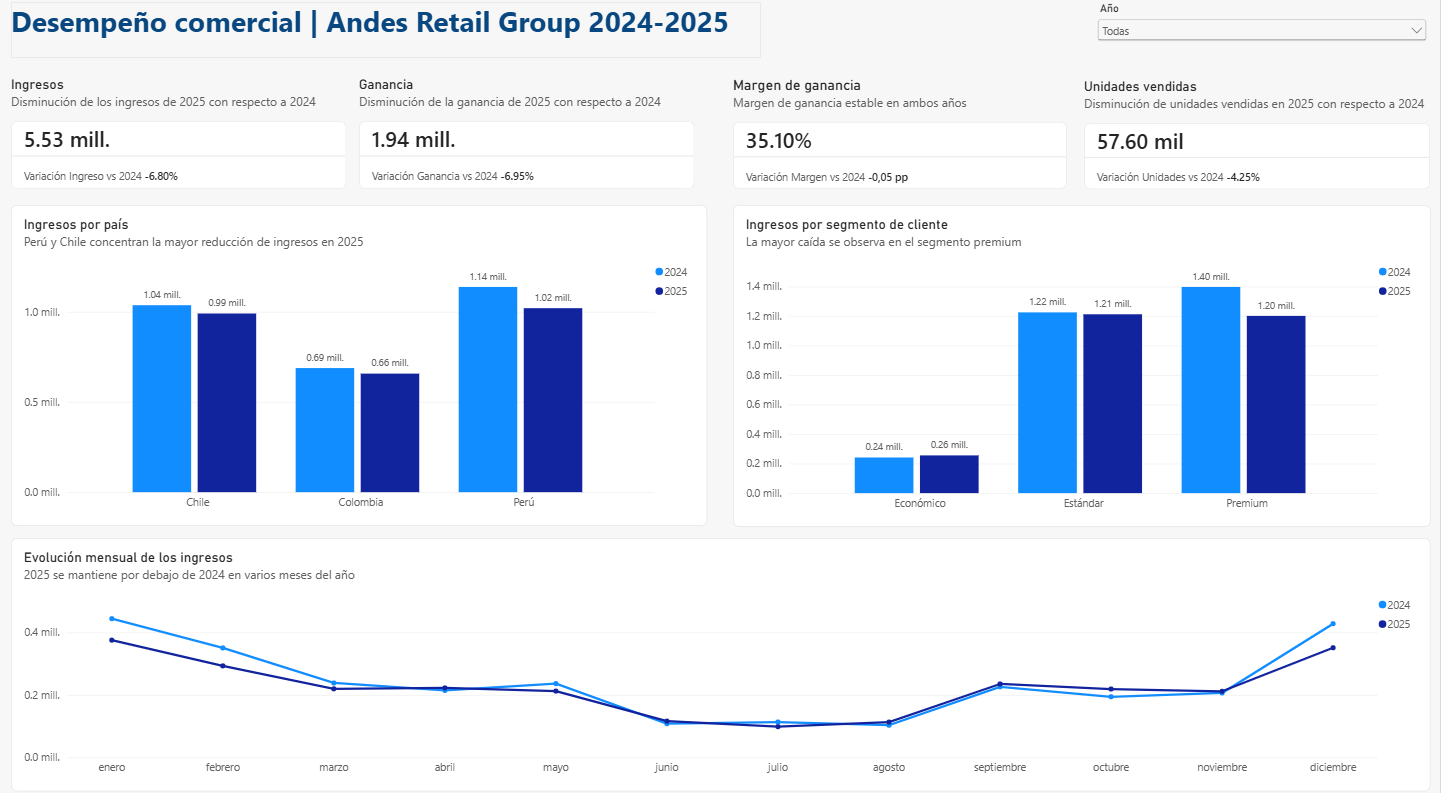

What the dashboard file says about the page in this screenshot:
{"tool":"powerbi","page":{"name":"Overview Ejecutivo","canvas":[1920,1080],"ordinal":0},"visuals":[{"type":"textbox","box":[20,12,997.5,74.5],"z":0},{"type":"cardVisual","title":"Ingresos","fields":{"Data":["Sum(Andes_Retail_Group_2024_2025.Ingresos)"]},"box":[20.4,110.9,446.7,150.3],"z":1000},{"type":"cardVisual","title":"Ganancia","fields":{"Data":["Andes_Retail_Group_2024_2025.Ganancia Total"]},"box":[482.9,110.9,446.4,150.3],"z":2000},{"type":"cardVisual","title":"Unidades vendidas","fields":{"Data":["Andes_Retail_Group_2024_2025.Unidades Vendidas Total"]},"box":[1447,112.9,460.7,148.4],"z":3000},{"type":"cardVisual","title":"Margen  de ganancia","fields":{"Data":["Andes_Retail_Group_2024_2025.Margen de Ganancia"]},"box":[980.4,110.9,445,150.3],"z":4000},{"type":"lineChart","title":"Evolución mensual de los ingresos ","fields":{"Category":["Andes_Retail_Group_2024_2025.Fecha_Pedido.Variación.Jerarquía de fechas.Mes"],"Series":["Andes_Retail_Group_2024_2025.Fecha_Pedido.Variación.Jerarquía de fechas.Año"],"Y":["Sum(Andes_Retail_Group_2024_2025.Ingresos)"]},"box":[20.1,725,1887.5,337],"z":5000},{"type":"slicer","fields":{"Values":["Andes_Retail_Group_2024_2025.Año"]},"box":[1460.4,12,446.9,63.8],"z":6000},{"type":"clusteredColumnChart","title":"Ingresos por país","fields":{"Category":["Andes_Retail_Group_2024_2025.País"],"Series":["Andes_Retail_Group_2024_2025.Fecha_Pedido.Variación.Jerarquía de fechas.Año"],"Y":["Sum(Andes_Retail_Group_2024_2025.Ingresos)"]},"box":[20,282,925.7,426.9],"z":7000},{"type":"clusteredColumnChart","title":"Ingresos por segmento de cliente","fields":{"Category":["Andes_Retail_Group_2024_2025.Segmento_Cliente"],"Series":["Andes_Retail_Group_2024_2025.Fecha_Pedido.Variación.Jerarquía de fechas.Año"],"Y":["Sum(Andes_Retail_Group_2024_2025.Ingresos)"]},"box":[980.1,281.4,927.5,428.2],"z":8000}]}

Visuals, with their boxes in screenshot pixels (x1, y1, x2, y2), scaled from the page's 1920x1080 canvas onto the 1441x793 screenshot:
textbox: left=15, top=9, right=764, bottom=64
"Ingresos" cardVisual: left=15, top=81, right=351, bottom=192
"Ganancia" cardVisual: left=362, top=81, right=697, bottom=192
"Unidades vendidas" cardVisual: left=1086, top=83, right=1432, bottom=192
"Margen  de ganancia" cardVisual: left=736, top=81, right=1070, bottom=192
"Evolución mensual de los ingresos " lineChart: left=15, top=532, right=1432, bottom=780
slicer - Andes_Retail_Group_2024_2025.Año: left=1096, top=9, right=1431, bottom=56
"Ingresos por país" clusteredColumnChart: left=15, top=207, right=710, bottom=521
"Ingresos por segmento de cliente" clusteredColumnChart: left=736, top=207, right=1432, bottom=521
